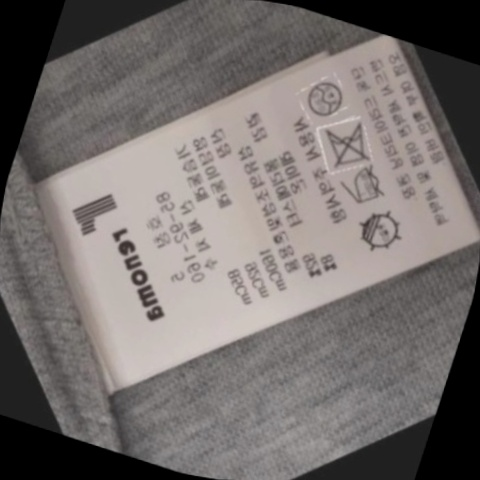DN_wash: (308, 110, 381, 178)
dry_clean_petrol_only: (295, 68, 353, 126)
iron_low: (332, 157, 397, 218)
line_dry_in_shade: (342, 199, 412, 263)
